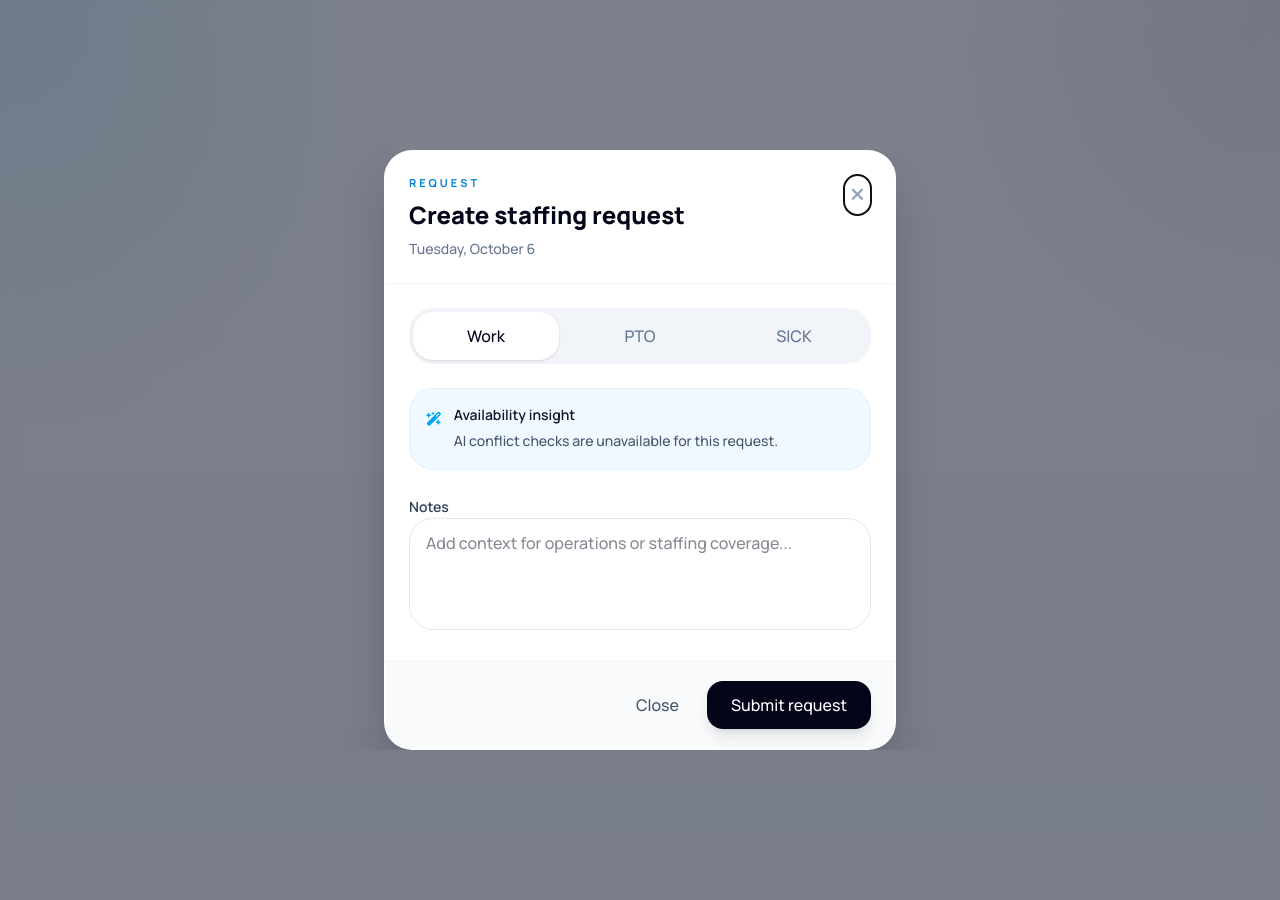
Test: failed save keeps the modal and draft, and blocks duplicate submits
Type "Keep this draft" into the text box with placeholder "Add context for operations or staffing coverage..." at coordinates (640, 574), box 409,518 -> 871,630
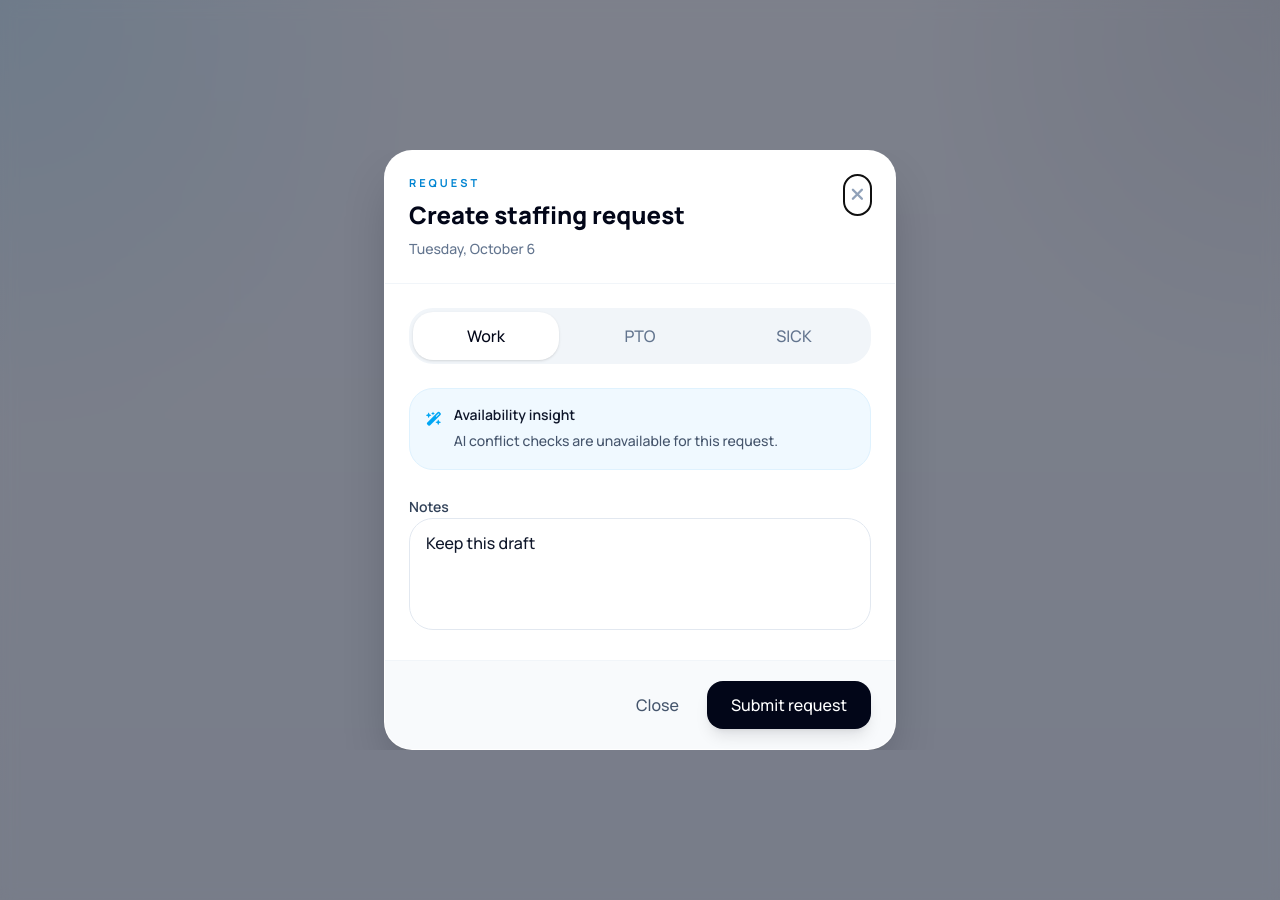
Click the button "Submit request" at coordinates (789, 705), box 707,681 -> 871,729
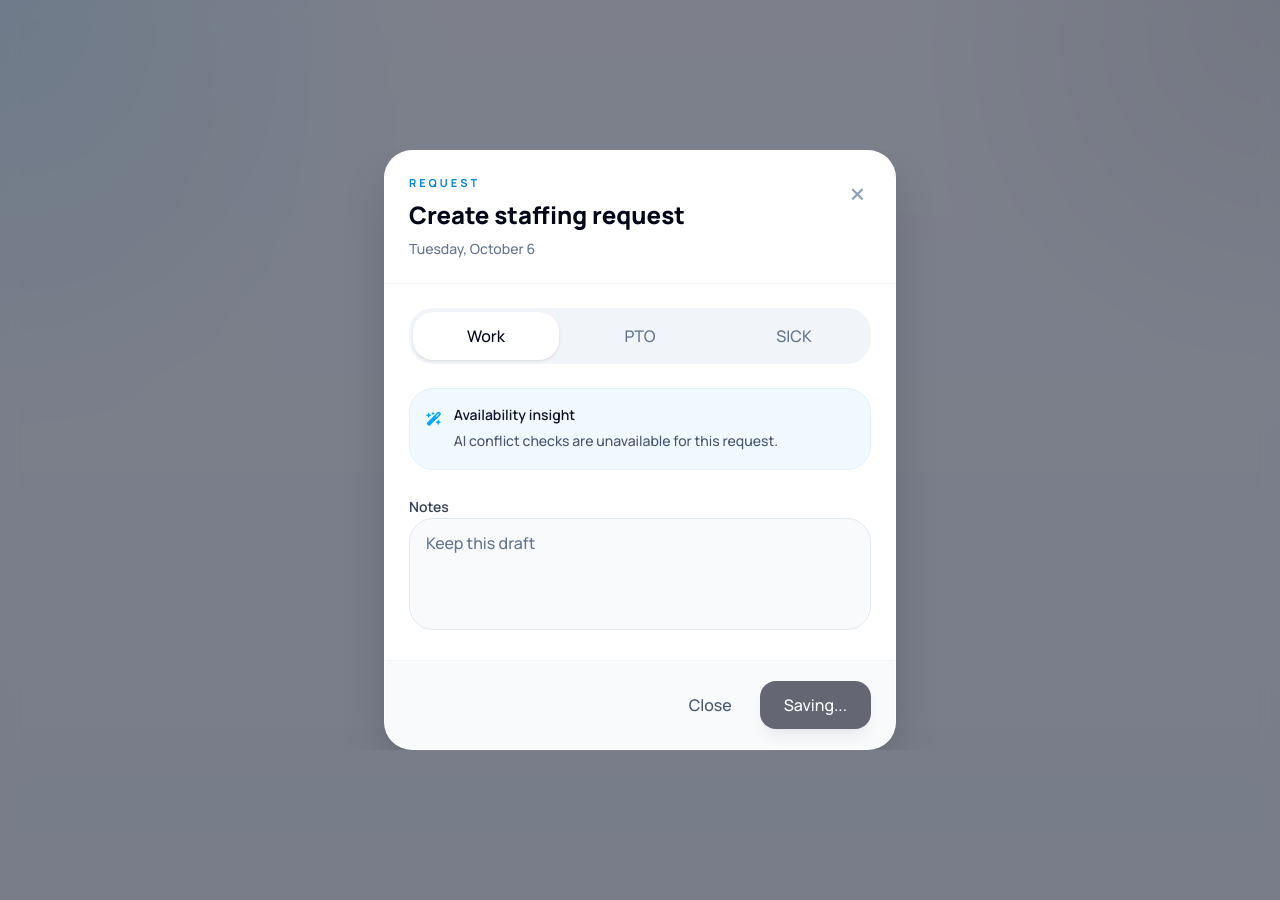
Expected: the button "Saving..." is disabled
Click the button "Saving..." at coordinates (815, 705), box 760,681 -> 871,729
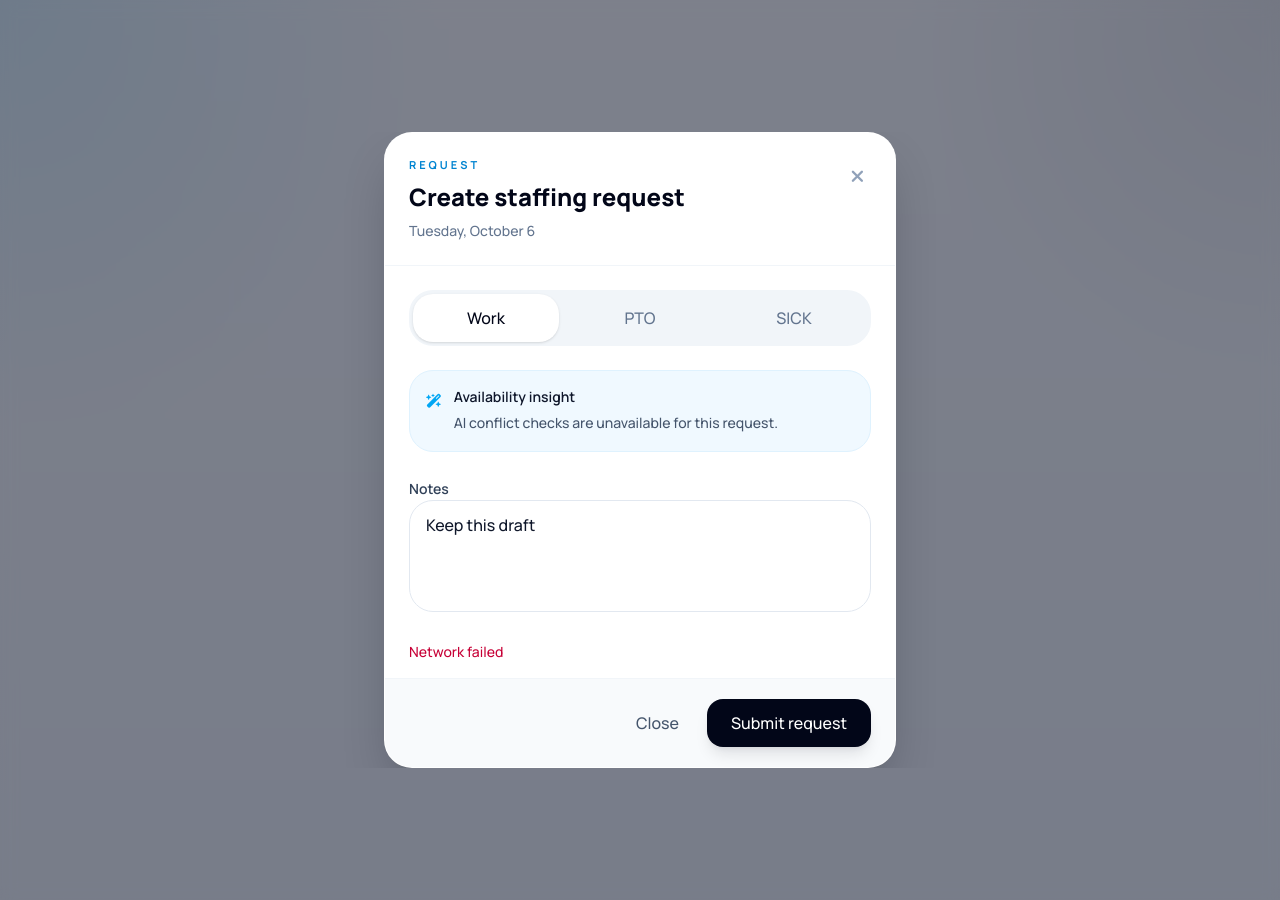
Expected: the message reads "Network failed", 409,642 -> 503,661
